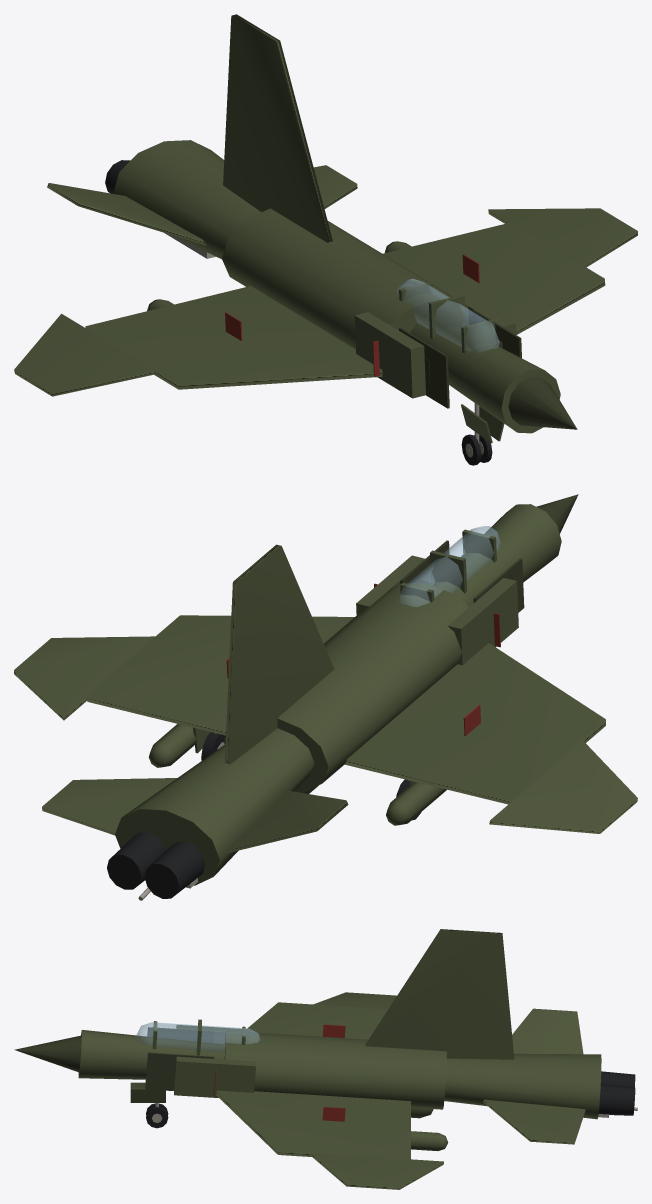
File: f-4-phantom-ii.glb
The picture shows the model from 3 angles, top to bottom: view 1: azimuth 30°, elevation 25°; view 2: azimuth 150°, elevation 25°; view 3: azimuth 270°, elevation 25°; orthographic projection. The views are drawn at different scales.
Parts seen in each view (by area): view 1: Mesh_InnerWingR, Mesh_FuselageCenter, Mesh_VerticalFin, Mesh_InnerWingL, Mesh_FuselageRear, Mesh_OuterWingR, Mesh_FuselageFront, Mesh_OuterWingL, Mesh_IntakeR, Mesh_CanopyGlass, Mesh_TailplaneR, Mesh_Radome (+6 smaller); view 2: Mesh_InnerWingR, Mesh_FuselageCenter, Mesh_VerticalFin, Mesh_FuselageRear, Mesh_InnerWingL, Mesh_OuterWingR, Mesh_OuterWingL, Mesh_FuselageFront, Mesh_TailplaneL, Mesh_TailplaneR, Mesh_CanopyGlass, Mesh_IntakeR (+9 smaller); view 3: Mesh_VerticalFin, Mesh_FuselageCenter, Mesh_InnerWingL, Mesh_FuselageRear, Mesh_FuselageFront, Mesh_InnerWingR, Mesh_OuterWingL, Mesh_IntakeL, Mesh_TailplaneL, Mesh_TailplaneR, Mesh_CanopyGlass, Mesh_Radome (+8 smaller).
Boxes of the visible parts, x1,y1,x2,y2 form: Mesh_InnerWingR: (85, 286, 382, 389); Mesh_FuselageCenter: (222, 208, 468, 349); Mesh_VerticalFin: (223, 14, 332, 242); Mesh_InnerWingL: (383, 222, 605, 334); Mesh_FuselageRear: (113, 140, 260, 259); Mesh_OuterWingR: (14, 313, 155, 396); Mesh_FuselageFront: (410, 316, 560, 433); Mesh_OuterWingL: (488, 208, 637, 267); Mesh_IntakeR: (354, 312, 425, 398); Mesh_CanopyGlass: (397, 278, 499, 352); Mesh_TailplaneR: (47, 183, 206, 245); Mesh_Radome: (508, 377, 577, 429); Mesh_InnerWingR: (345, 643, 605, 804); Mesh_FuselageCenter: (223, 582, 468, 792); Mesh_VerticalFin: (224, 544, 334, 764); Mesh_FuselageRear: (115, 728, 314, 885); Mesh_InnerWingL: (87, 615, 354, 735); Mesh_OuterWingR: (489, 741, 637, 833); Mesh_OuterWingL: (14, 636, 154, 720); Mesh_FuselageFront: (433, 504, 561, 606); Mesh_TailplaneL: (42, 778, 176, 835); Mesh_TailplaneR: (227, 790, 348, 852); Mesh_CanopyGlass: (398, 526, 500, 606); Mesh_IntakeR: (448, 578, 518, 665); Mesh_VerticalFin: (365, 929, 514, 1059); Mesh_FuselageCenter: (224, 1031, 446, 1109); Mesh_InnerWingL: (216, 1090, 410, 1159); Mesh_FuselageRear: (444, 1053, 601, 1119); Mesh_FuselageFront: (78, 1030, 225, 1079); Mesh_InnerWingR: (247, 1002, 387, 1039); Mesh_OuterWingL: (311, 1153, 443, 1189); Mesh_IntakeL: (174, 1056, 255, 1097); Mesh_TailplaneL: (483, 1099, 585, 1144); Mesh_TailplaneR: (512, 1008, 583, 1054); Mesh_CanopyGlass: (136, 1022, 259, 1052); Mesh_Radome: (14, 1035, 81, 1072).
Size of the model in its own units: 10.88 by 4.88 by 14.09.
Materials: 2 (2 with a texture image).
